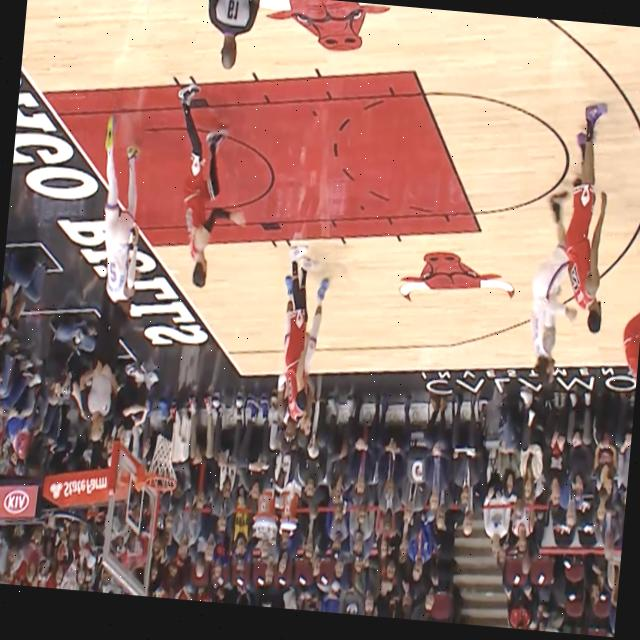no foul: (510, 79, 629, 412), (264, 235, 353, 458)
